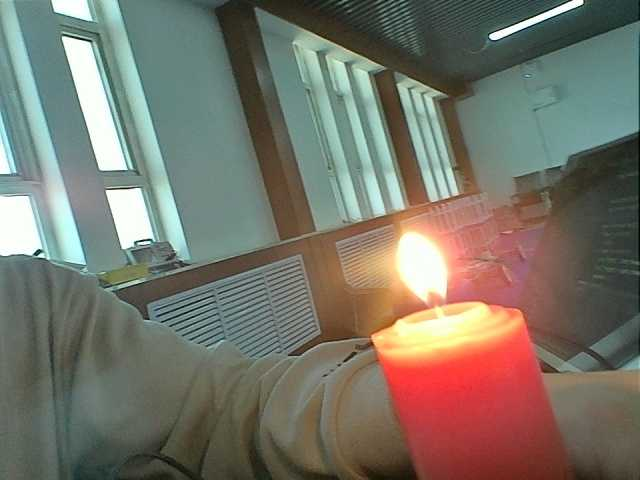candle: (370, 301, 575, 480)
fire: (389, 225, 474, 329)
